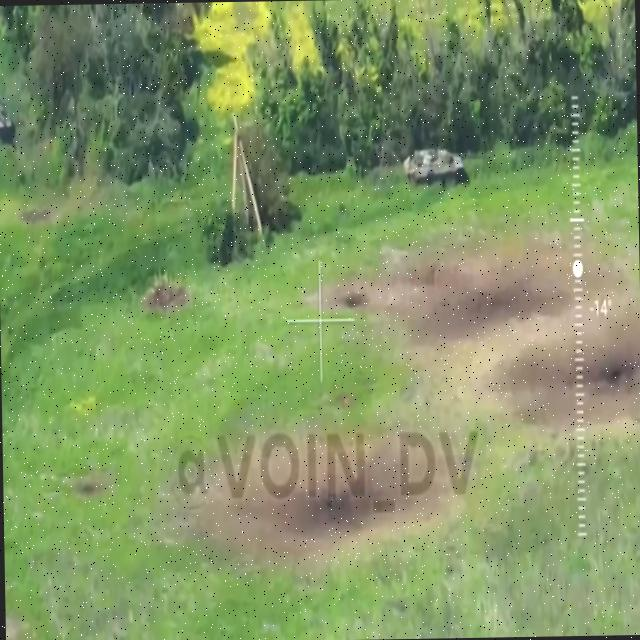MBT: (406, 146, 476, 191), (1, 97, 16, 141)
